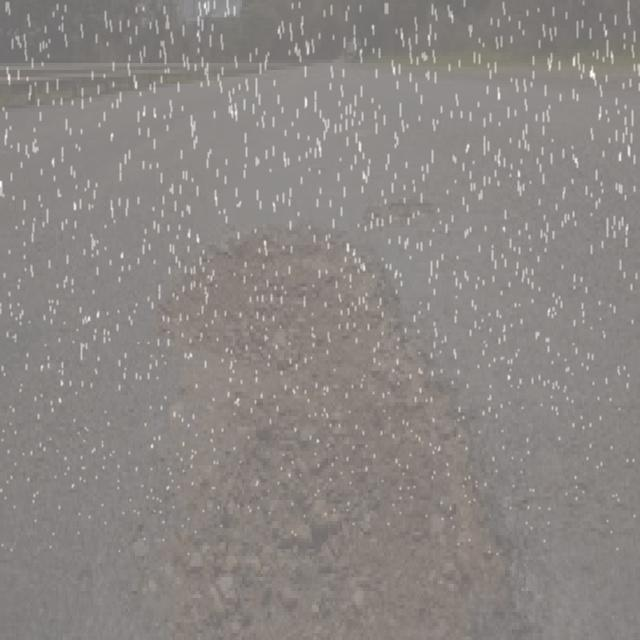Pothole: (152, 228, 527, 640), (357, 177, 447, 244)
